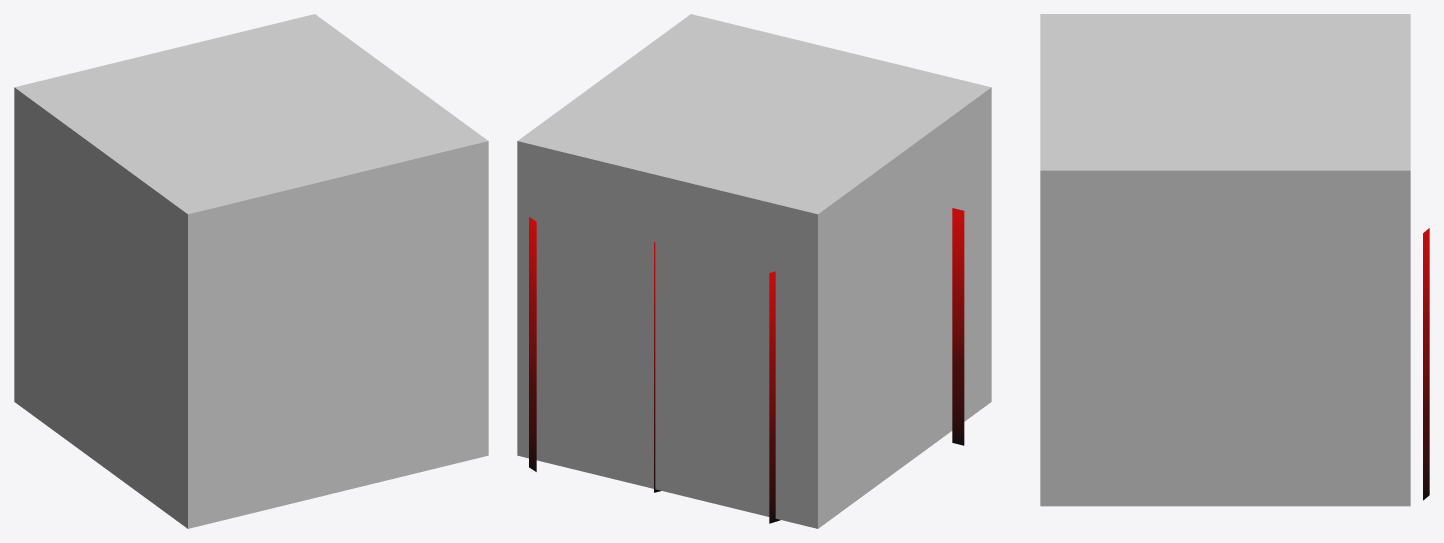
File: grass.glb
The picture shows the model from 3 angles, left to right: view 1: azimuth 30°, elevation 25°; view 2: azimuth 150°, elevation 25°; view 3: azimuth 270°, elevation 25°; orthographic projection. The views are drawn at different scales.
Visible parts, largest first — view 1: Cube; view 2: Cube, Plane; view 3: Cube, Plane.
Part boxes in pixels (x1,y1,x2,y2): Cube: (14, 14, 488, 528); Cube: (517, 14, 991, 528); Plane: (529, 208, 964, 523); Cube: (1040, 14, 1410, 506); Plane: (1423, 228, 1429, 500).
Bounding box in the file's own units: 1.2 × 1.01 × 1.11.
